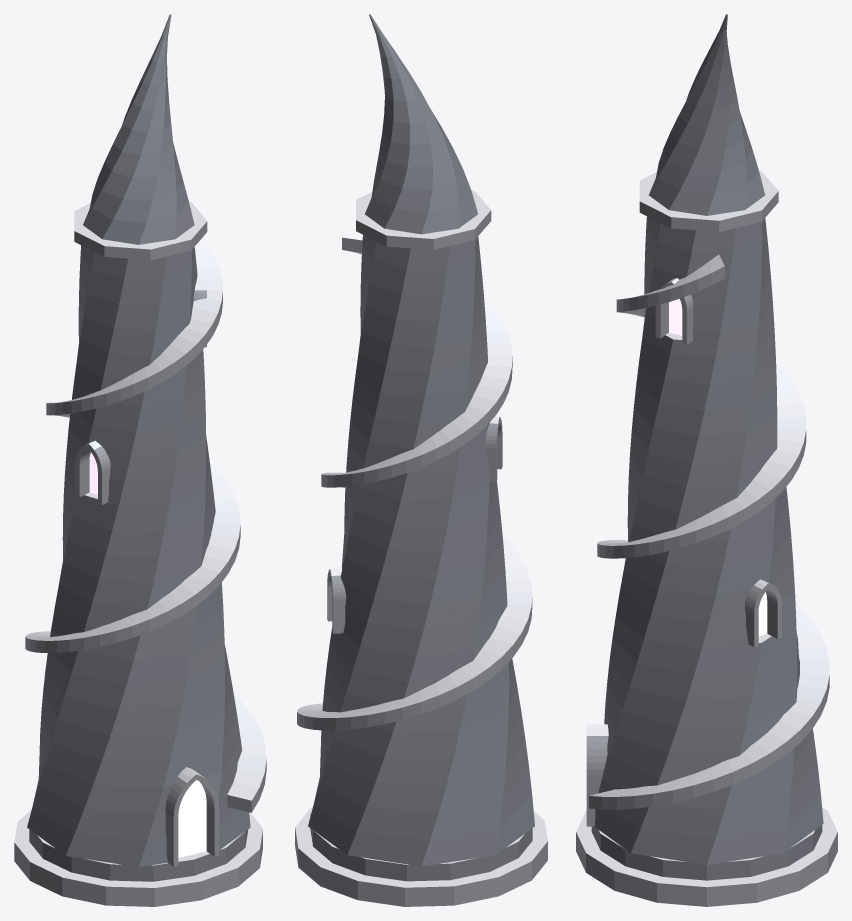
File: AR_Espiral.fbx
3 renders of one model, left to right at view 1: azimuth 30°, elevation 25°; view 2: azimuth 150°, elevation 25°; view 3: azimuth 270°, elevation 25°, orthographic. The views are drawn at different scales.
Visible parts, largest first — view 1: AR_Espiral; view 2: AR_Espiral; view 3: AR_Espiral.
Boxes of the visible parts, bbox=[...] form: AR_Espiral: bbox=[14, 14, 266, 906]; AR_Espiral: bbox=[295, 14, 547, 906]; AR_Espiral: bbox=[576, 14, 837, 906].
Size of the model in its own units: 8.4 by 30.4 by 8.4.
